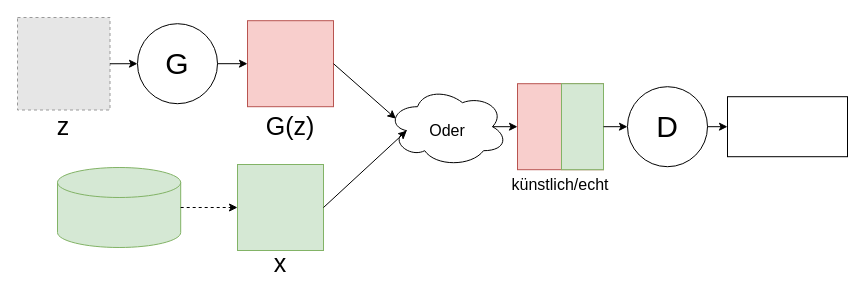
This 865x295 diagram has some shape labels left out. Grey dashed boxes stand in for pictures. The centre of each missing label's shape, as x and y in pixels:
"Bild ist künstlich/echt" goes at point 787,126.
"Trainingsdaten" goes at point 118,207.
